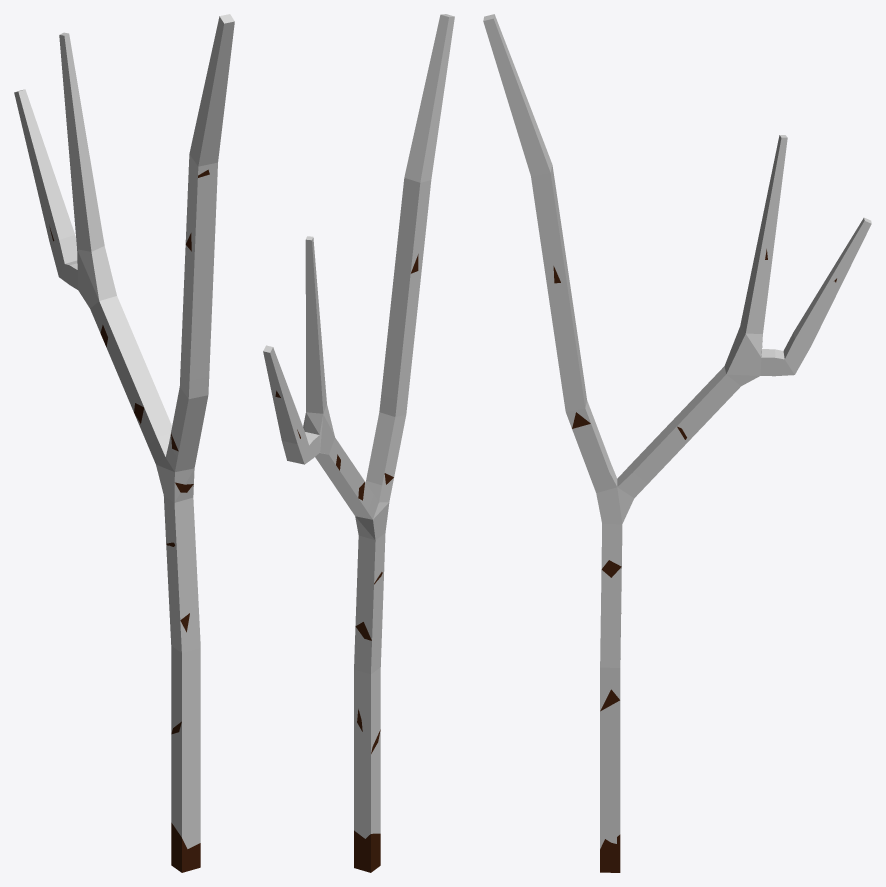
File: drzewozimabrzorza.fbx
3 renders of one model, left to right at view 1: azimuth 30°, elevation 25°; view 2: azimuth 150°, elevation 25°; view 3: azimuth 270°, elevation 25°, orthographic. The views are drawn at different scales.
Visible parts, largest first — view 1: Cube; view 2: Cube; view 3: Cube.
Boxes of the visible parts, x1,y1,x2,y2 form: Cube: (14,14,234,872); Cube: (263,14,454,872); Cube: (483,14,871,872).
Bounding box in the file's own units: 76.32 × 1560 × 652.
